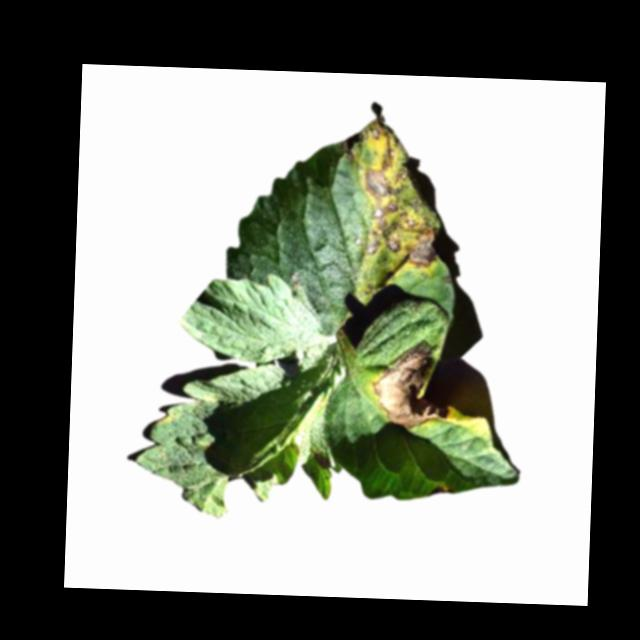Early_blight: (338, 114, 444, 271), (370, 337, 457, 429), (313, 448, 330, 469), (429, 484, 452, 498)
